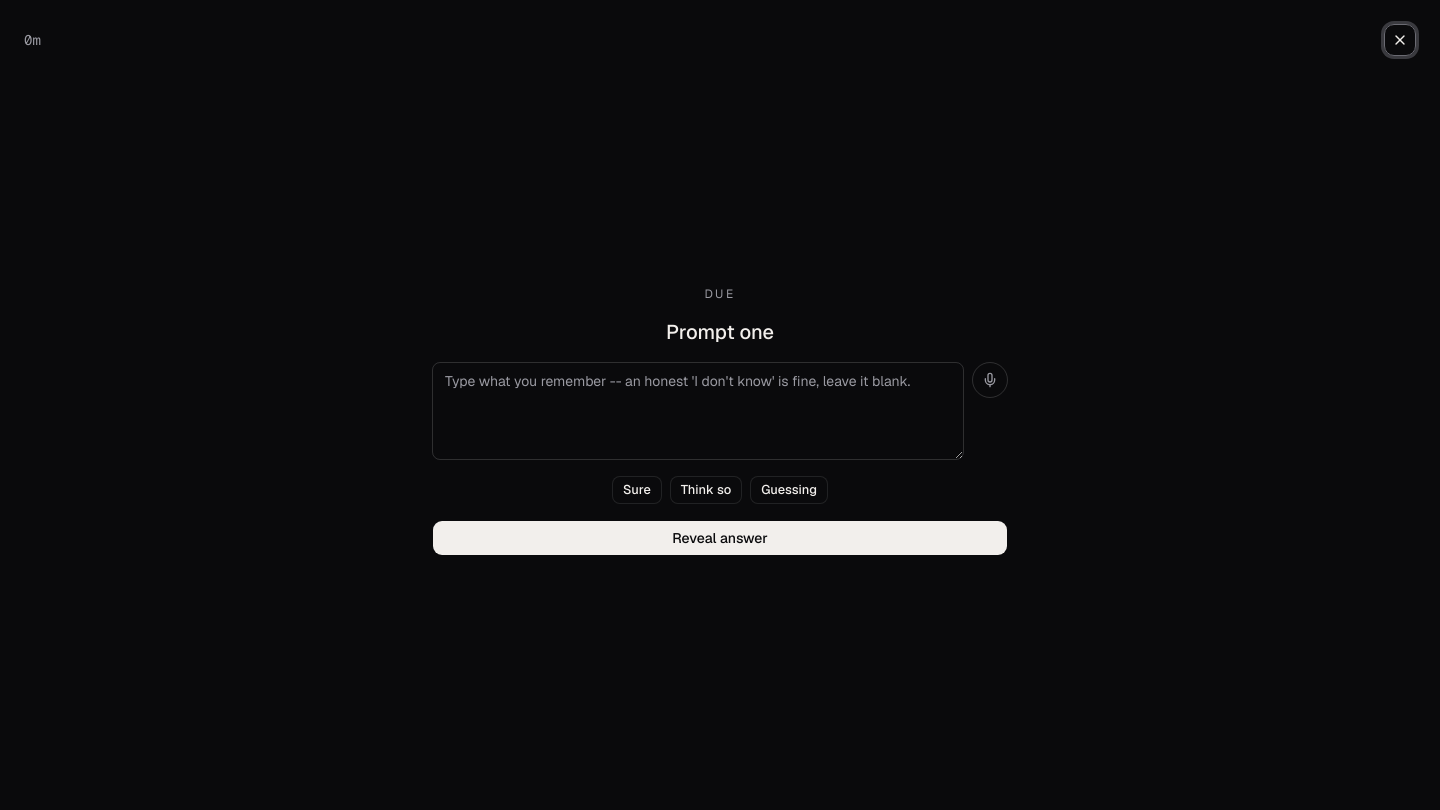
RetrievalSessionOverlay › only fetches the answer after Reveal is tapped -- the non-negotiable invariant, at the component boundary
The width and height of the screenshot is (1440, 810).
Expected: the text "Prompt one" is shown, [666, 319, 774, 345]
Expected: the text "The real answer" is not shown
Click the button "Reveal answer" at point(720, 538), box [432, 520, 1008, 556]
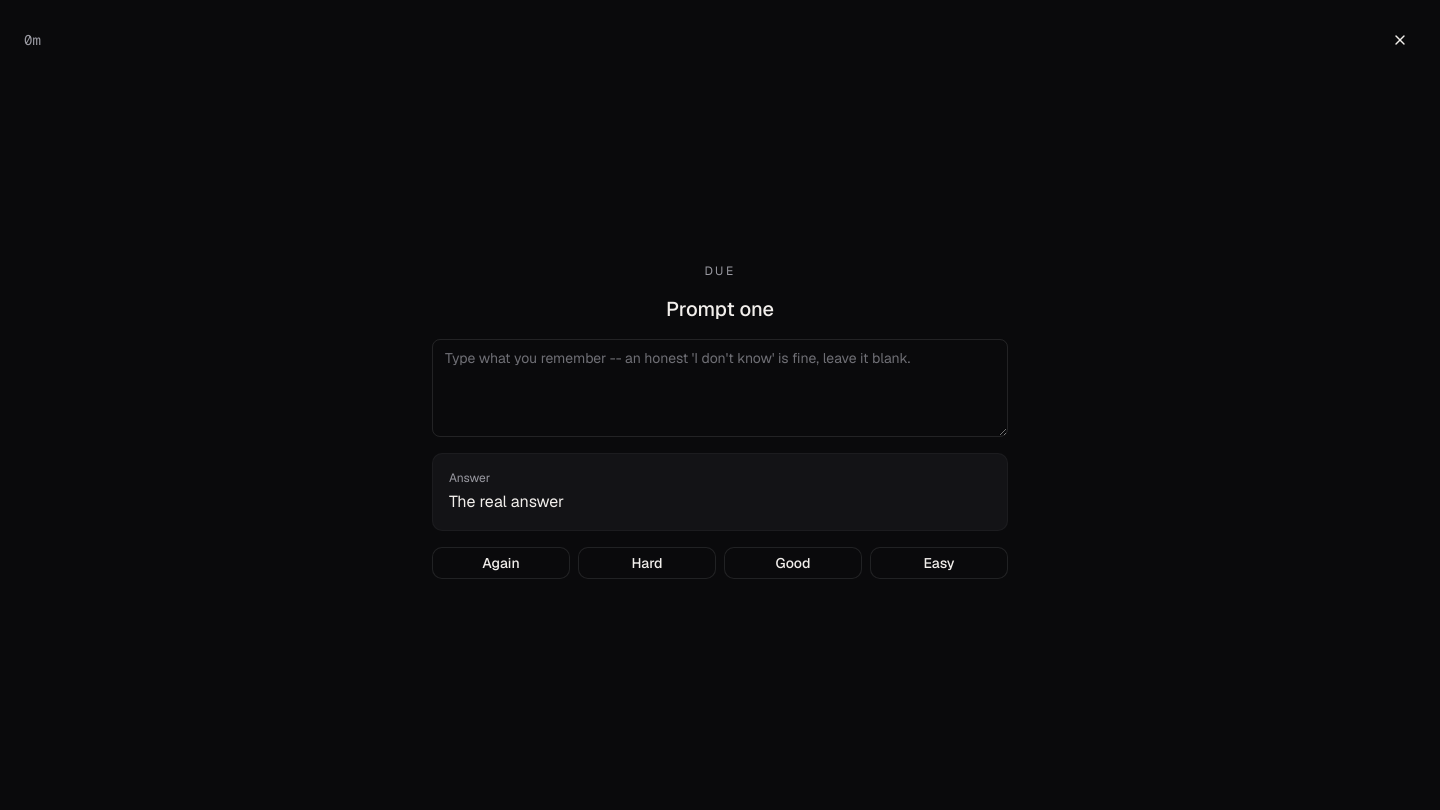
Result: the text "The real answer" is shown at [449, 491, 564, 512]
